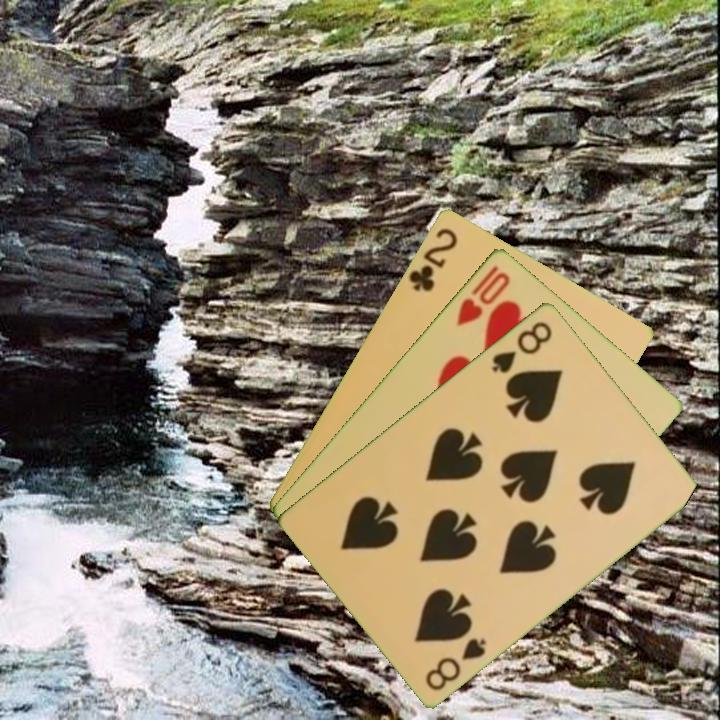10h: (453, 261, 514, 329)
2c: (405, 224, 461, 294)
8s: (422, 633, 490, 693), (488, 317, 555, 376)
